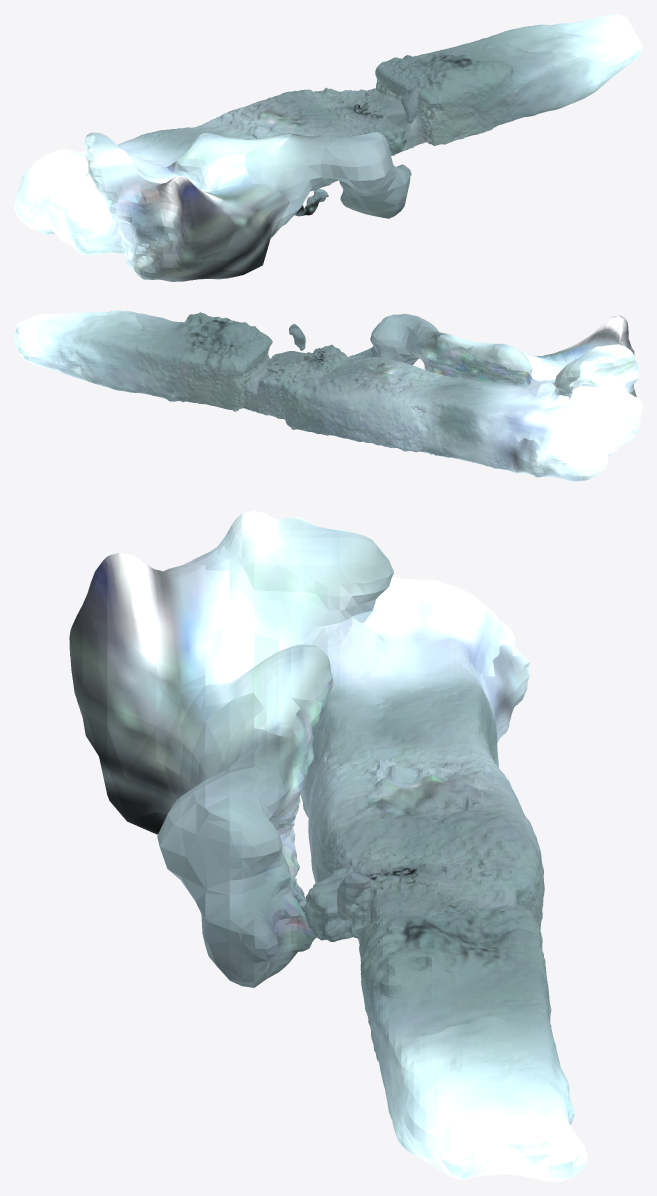
Rendered from tunnel_mesh.glb.
3 renders of one model, top to bottom at view 1: azimuth 30°, elevation 25°; view 2: azimuth 150°, elevation 25°; view 3: azimuth 270°, elevation 25°, orthographic. The views are drawn at different scales.
Visible parts, largest first — view 1: world; view 2: world; view 3: world.
Boxes of the visible parts, x1,y1,x2,y2 form: world: [14, 14, 642, 281]; world: [14, 310, 642, 481]; world: [69, 510, 587, 1181].
Bounding box in the file's own units: 104 × 19.96 × 41.56.
1 material, 1 textured.
